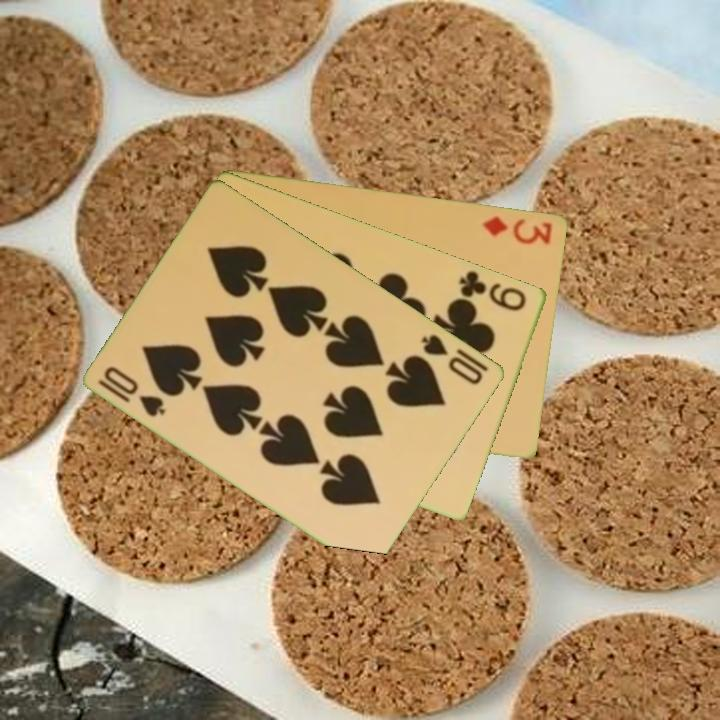10s: (95, 362, 169, 420), (418, 330, 486, 388)
3d: (479, 212, 556, 247)
9c: (456, 267, 530, 314)
